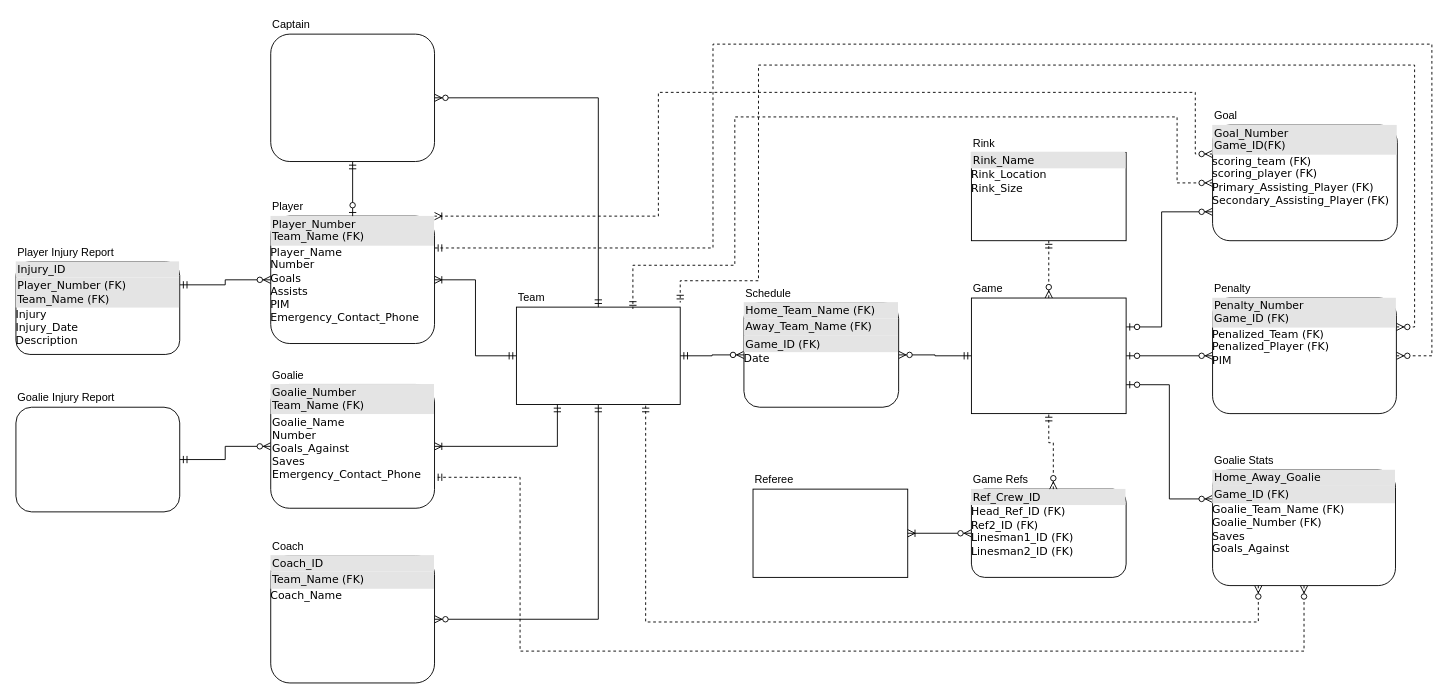
Image size: 1456x699. Some labels were removed from this diagram. Each missing label, with the centre of its shape:
"Game_ID Rink_Name (FK) Ref_Crew_ID (FK) Home_Team_Score Away_Team_Score" belongs at [1048,355].
"Injury_ID Goalie_Number (FK) Team_Name (FK) Injury Injury_Date Description" belongs at [97,459].
"Player_Number (FK) Team_Name (FK) Captain_Role" belongs at [352,97].
"Ref_ID Ref_Name Hometown Certification_Level" belongs at [830,532].
"Team_Name Wins Losses Ties Points" belongs at [598,355].
